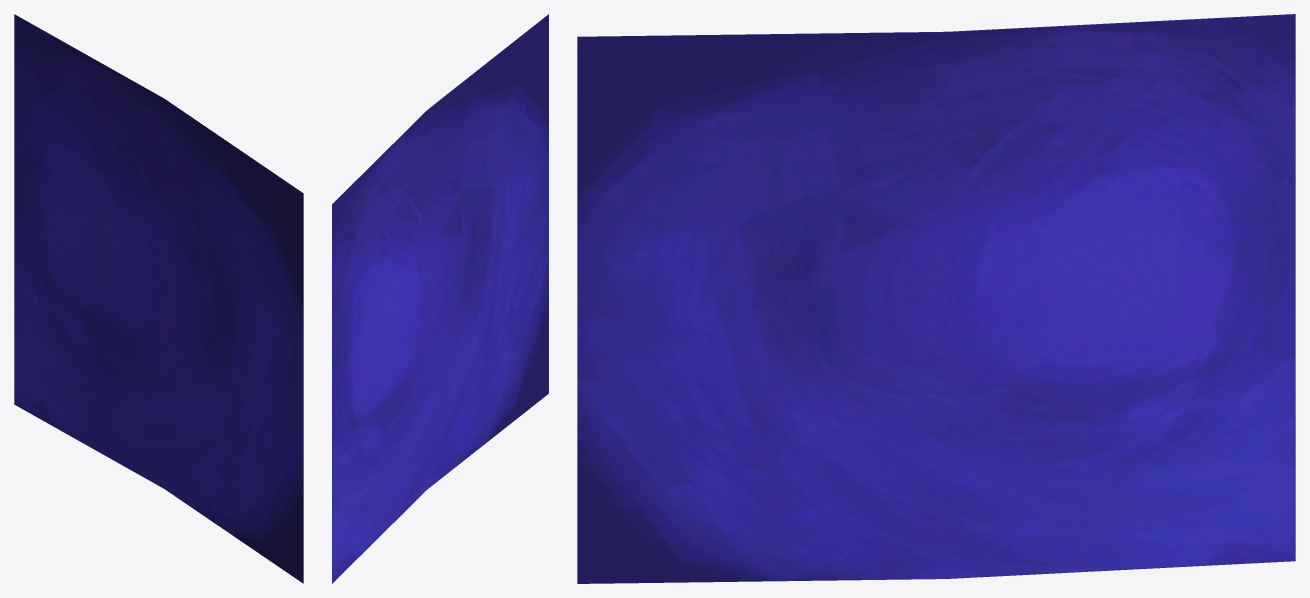
Rendered from SWORDLIGHT20_PS-AREA05-RANGE05_02.fbx.
The picture shows the model from 3 angles, left to right: view 1: azimuth 30°, elevation 25°; view 2: azimuth 150°, elevation 25°; view 3: azimuth 270°, elevation 25°; orthographic projection. The views are drawn at different scales.
Visible parts, largest first — view 1: SWORDLIGHT20_PS-AREA05-RANGE05_02; view 2: SWORDLIGHT20_PS-AREA05-RANGE05_02; view 3: SWORDLIGHT20_PS-AREA05-RANGE05_02.
Boxes of the visible parts, box(x1,y1,x2,y2) form: SWORDLIGHT20_PS-AREA05-RANGE05_02: box(14, 14, 303, 583); SWORDLIGHT20_PS-AREA05-RANGE05_02: box(332, 14, 548, 583); SWORDLIGHT20_PS-AREA05-RANGE05_02: box(577, 14, 1295, 583).
Size of the model in its own units: 28670 by 321356 by 382390.
Materials: 1 (1 with a texture image).
